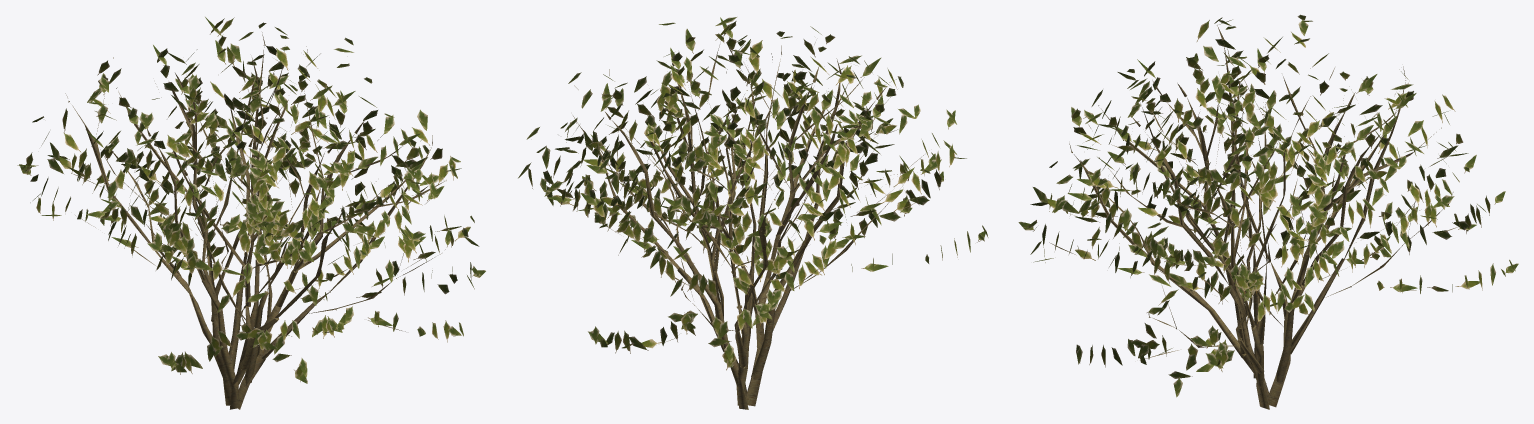
The model's file is euonymus_shrub_a_low.glb.
3 renders of one model, left to right at view 1: azimuth 30°, elevation 25°; view 2: azimuth 150°, elevation 25°; view 3: azimuth 270°, elevation 25°, orthographic.
Visible parts, largest first — view 1: EuonymusShrub_A_LowPoly; view 2: EuonymusShrub_A_LowPoly; view 3: EuonymusShrub_A_LowPoly.
Part boxes in pixels (bbox=[...]): EuonymusShrub_A_LowPoly: bbox=[17, 17, 485, 409]; EuonymusShrub_A_LowPoly: bbox=[518, 17, 988, 409]; EuonymusShrub_A_LowPoly: bbox=[1018, 14, 1518, 409].
Bounding box in the file's own units: 1.37 × 1.19 × 1.49.
Materials: 3 (3 with a texture image).
